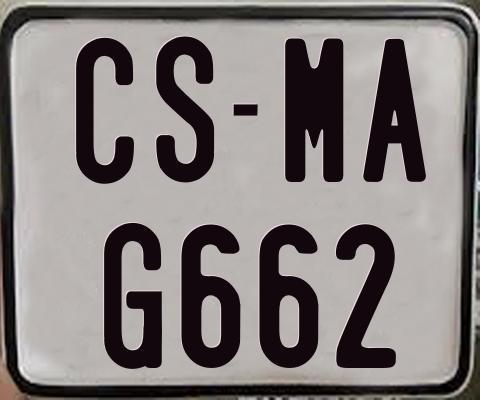2: (333, 221, 396, 371)
6: (258, 224, 324, 369), (178, 224, 243, 370)
A: (363, 38, 429, 187)
C: (74, 37, 134, 186)
G: (101, 222, 165, 371)
M: (285, 36, 347, 181)
S: (154, 35, 218, 185)
